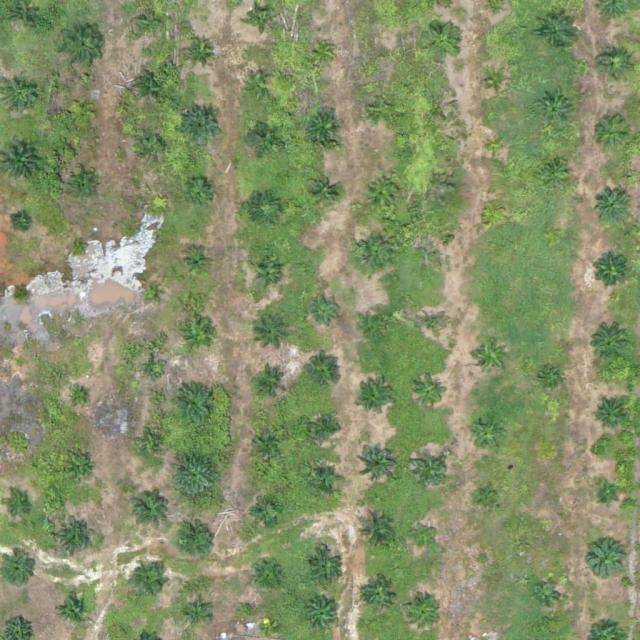Healthy: (130, 3, 170, 43)
Small: (171, 380, 218, 428), (173, 517, 220, 564), (173, 452, 220, 499), (585, 537, 625, 577), (128, 488, 168, 528), (254, 313, 294, 353), (537, 92, 577, 132), (356, 380, 395, 420), (357, 513, 396, 553), (467, 415, 507, 454), (307, 548, 346, 588), (591, 113, 630, 153), (589, 324, 628, 364), (64, 27, 103, 67), (57, 517, 96, 557), (306, 109, 345, 149), (364, 172, 403, 212), (183, 107, 223, 146), (424, 22, 463, 62), (303, 357, 343, 396), (411, 452, 450, 491), (359, 441, 398, 480), (305, 598, 344, 637), (593, 187, 632, 226), (592, 251, 631, 290), (353, 233, 392, 272), (540, 11, 579, 50), (472, 338, 511, 377), (415, 376, 446, 408), (593, 400, 624, 432), (3, 554, 34, 586), (58, 595, 89, 627), (251, 194, 282, 226), (250, 120, 281, 152), (137, 71, 168, 103), (185, 36, 216, 68), (138, 130, 169, 162), (68, 96, 99, 128), (185, 176, 216, 208), (309, 176, 340, 208), (418, 310, 449, 342), (363, 309, 394, 341), (311, 294, 342, 326), (254, 258, 285, 290), (136, 567, 167, 598), (252, 556, 283, 587), (251, 496, 282, 527), (365, 578, 396, 609), (409, 598, 440, 629), (599, 51, 630, 82), (185, 322, 216, 353), (540, 156, 571, 187), (368, 95, 399, 126), (245, 70, 276, 101), (71, 172, 102, 203), (310, 413, 341, 444), (311, 465, 342, 496), (253, 425, 284, 456), (256, 366, 287, 397), (182, 249, 213, 280), (184, 602, 208, 626), (5, 495, 29, 519), (484, 70, 508, 94), (485, 137, 509, 161), (482, 199, 506, 223), (311, 41, 335, 65), (250, 7, 274, 31), (539, 369, 563, 393), (412, 526, 436, 550), (71, 460, 94, 484), (596, 483, 619, 507), (373, 45, 396, 69), (424, 232, 447, 256), (476, 487, 499, 510), (536, 581, 559, 604), (14, 215, 30, 231), (142, 284, 158, 300), (145, 364, 161, 380), (72, 391, 88, 407), (147, 438, 162, 454), (72, 239, 88, 254), (260, 619, 275, 635), (14, 357, 29, 372)
